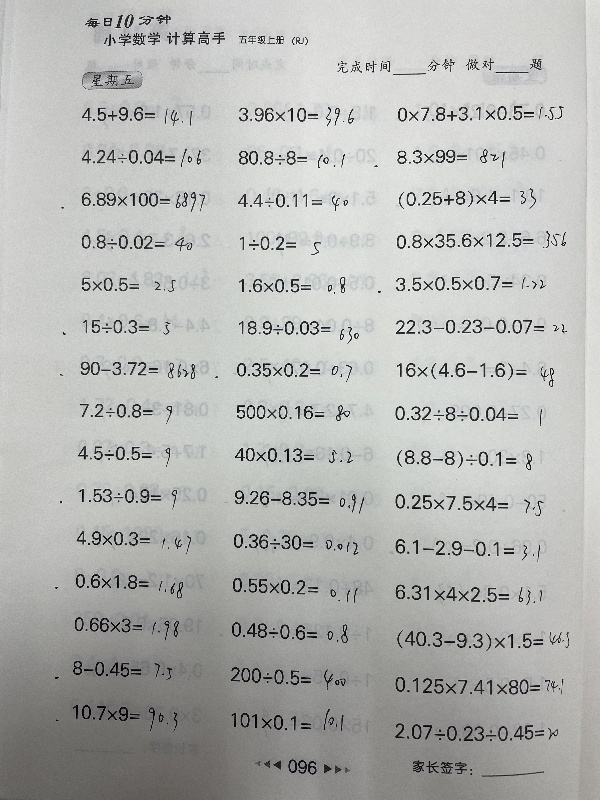equation: (389, 624, 576, 661), (390, 225, 574, 261), (392, 671, 569, 706), (389, 490, 546, 525), (389, 401, 550, 435), (392, 313, 569, 342), (392, 718, 561, 748), (391, 355, 557, 385), (230, 571, 361, 609), (394, 103, 570, 130), (227, 618, 353, 654), (68, 700, 184, 739), (71, 524, 208, 555), (384, 535, 543, 561), (228, 529, 375, 557), (394, 184, 540, 212), (389, 580, 545, 606), (390, 274, 552, 299), (72, 569, 190, 603), (226, 663, 350, 694), (391, 445, 535, 471), (229, 485, 367, 512), (233, 314, 363, 342), (77, 188, 209, 215), (67, 654, 178, 685), (228, 709, 349, 737), (77, 273, 186, 304), (231, 358, 355, 384), (77, 145, 205, 170), (234, 103, 357, 129), (71, 616, 182, 644), (232, 232, 328, 264), (232, 400, 354, 425), (235, 273, 352, 299), (230, 442, 355, 466), (392, 142, 507, 168), (74, 483, 180, 511), (75, 356, 198, 380), (77, 101, 195, 126), (76, 229, 195, 252), (233, 145, 347, 169), (74, 398, 175, 425), (233, 189, 351, 212), (73, 441, 173, 468), (78, 314, 172, 337)
